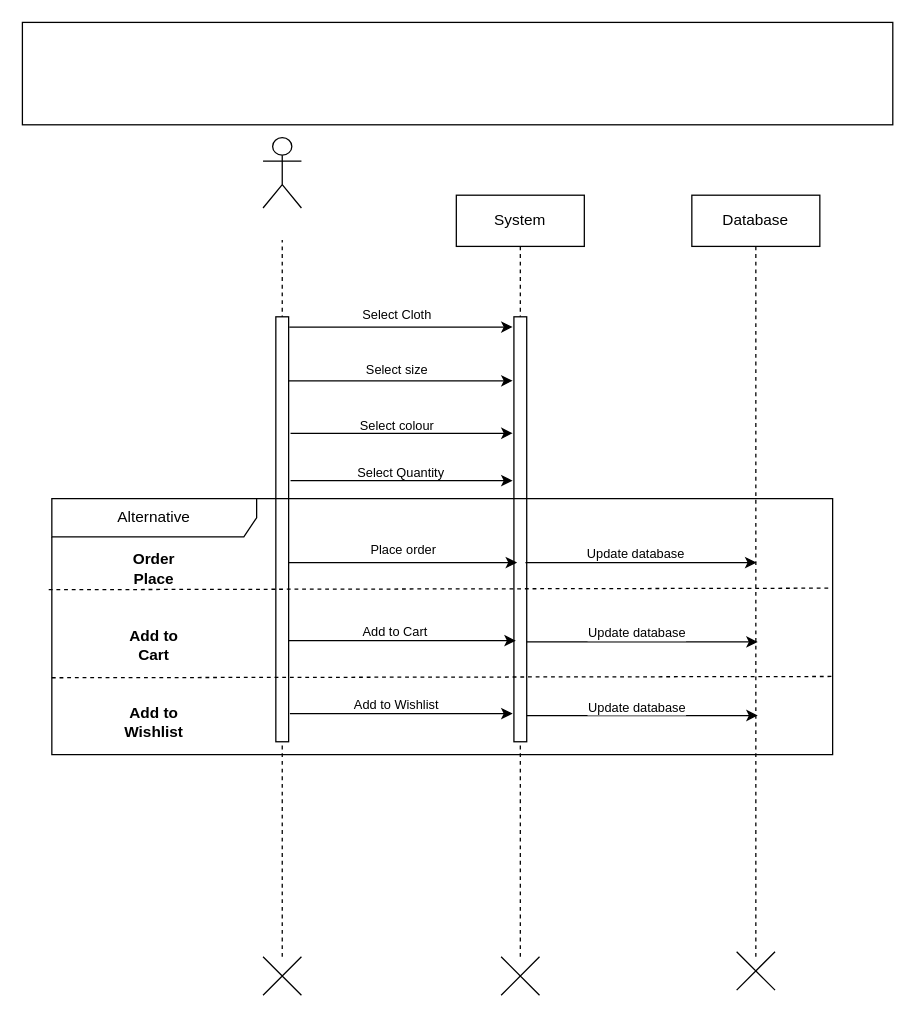
The diagram is 915 pixels wide and 1018 high, and some of its shapes have lost their labels. The shapes that lost their labels are listed below. From the top down, each one's centre as x and y in pixels, then its label:
point 457,73: Attire Selection Sequence Diagram
point 281,172: CUSTOMER
